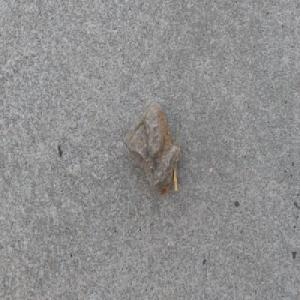Rock: (121, 96, 180, 197)
